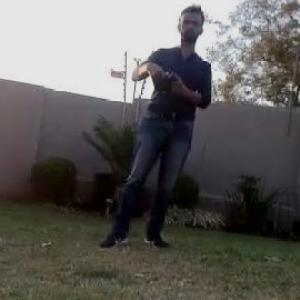follow: (93, 0, 217, 251)
